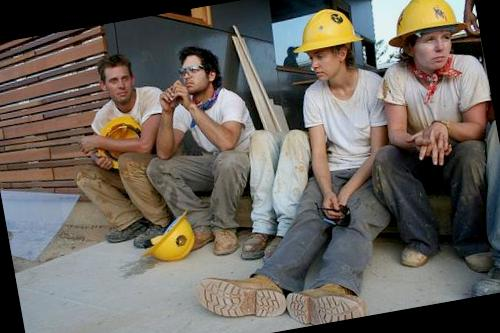no_helmet: (170, 33, 234, 99), (94, 46, 143, 106)
